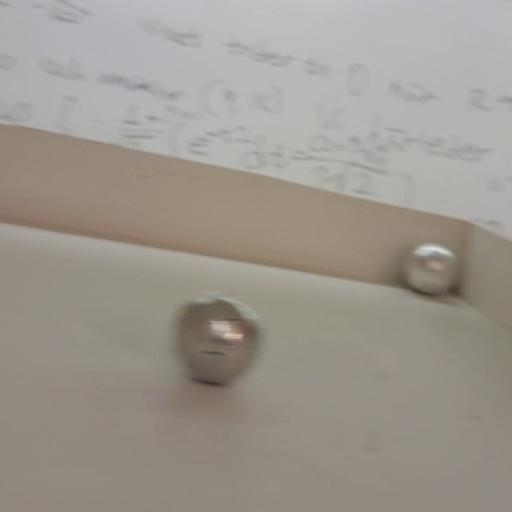alive: (175, 293, 264, 385), (402, 242, 454, 294)
